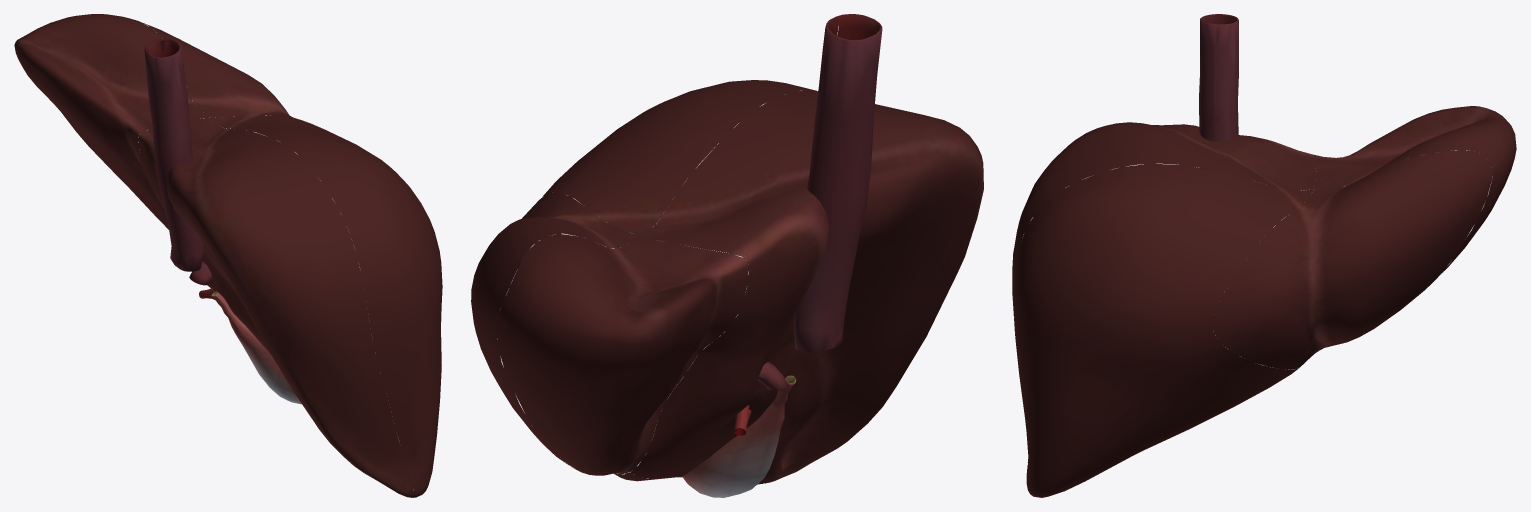
File: liver.glb
3 renders of one model, left to right at view 1: azimuth 30°, elevation 25°; view 2: azimuth 150°, elevation 25°; view 3: azimuth 270°, elevation 25°, orthographic. The views are drawn at different scales.
Visible parts, largest first — view 1: Liver; view 2: Liver; view 3: Liver.
Part boxes in pixels (x1,y1,x2,y2): Liver: (14, 14, 442, 497); Liver: (471, 14, 983, 497); Liver: (1012, 14, 1516, 497).
Size of the model in its own units: 0.1192 by 0.1943 by 0.2201.
5 materials, 5 textured.
